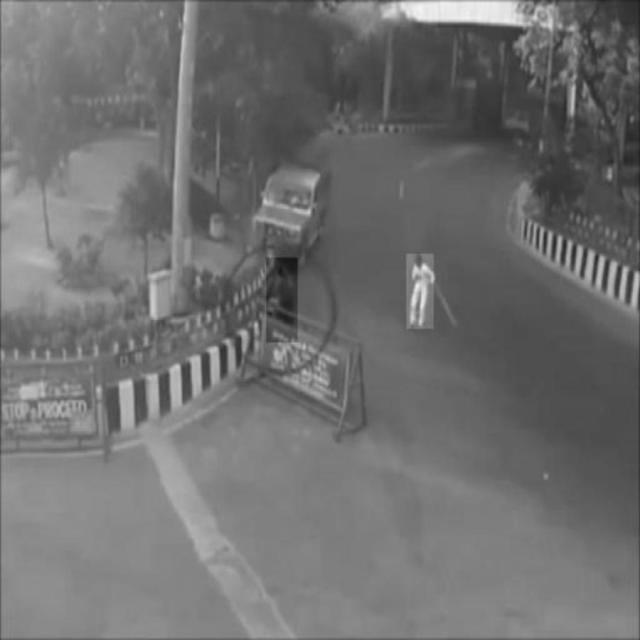accident: (247, 158, 330, 270)
person: (266, 258, 296, 342), (407, 254, 434, 328)
